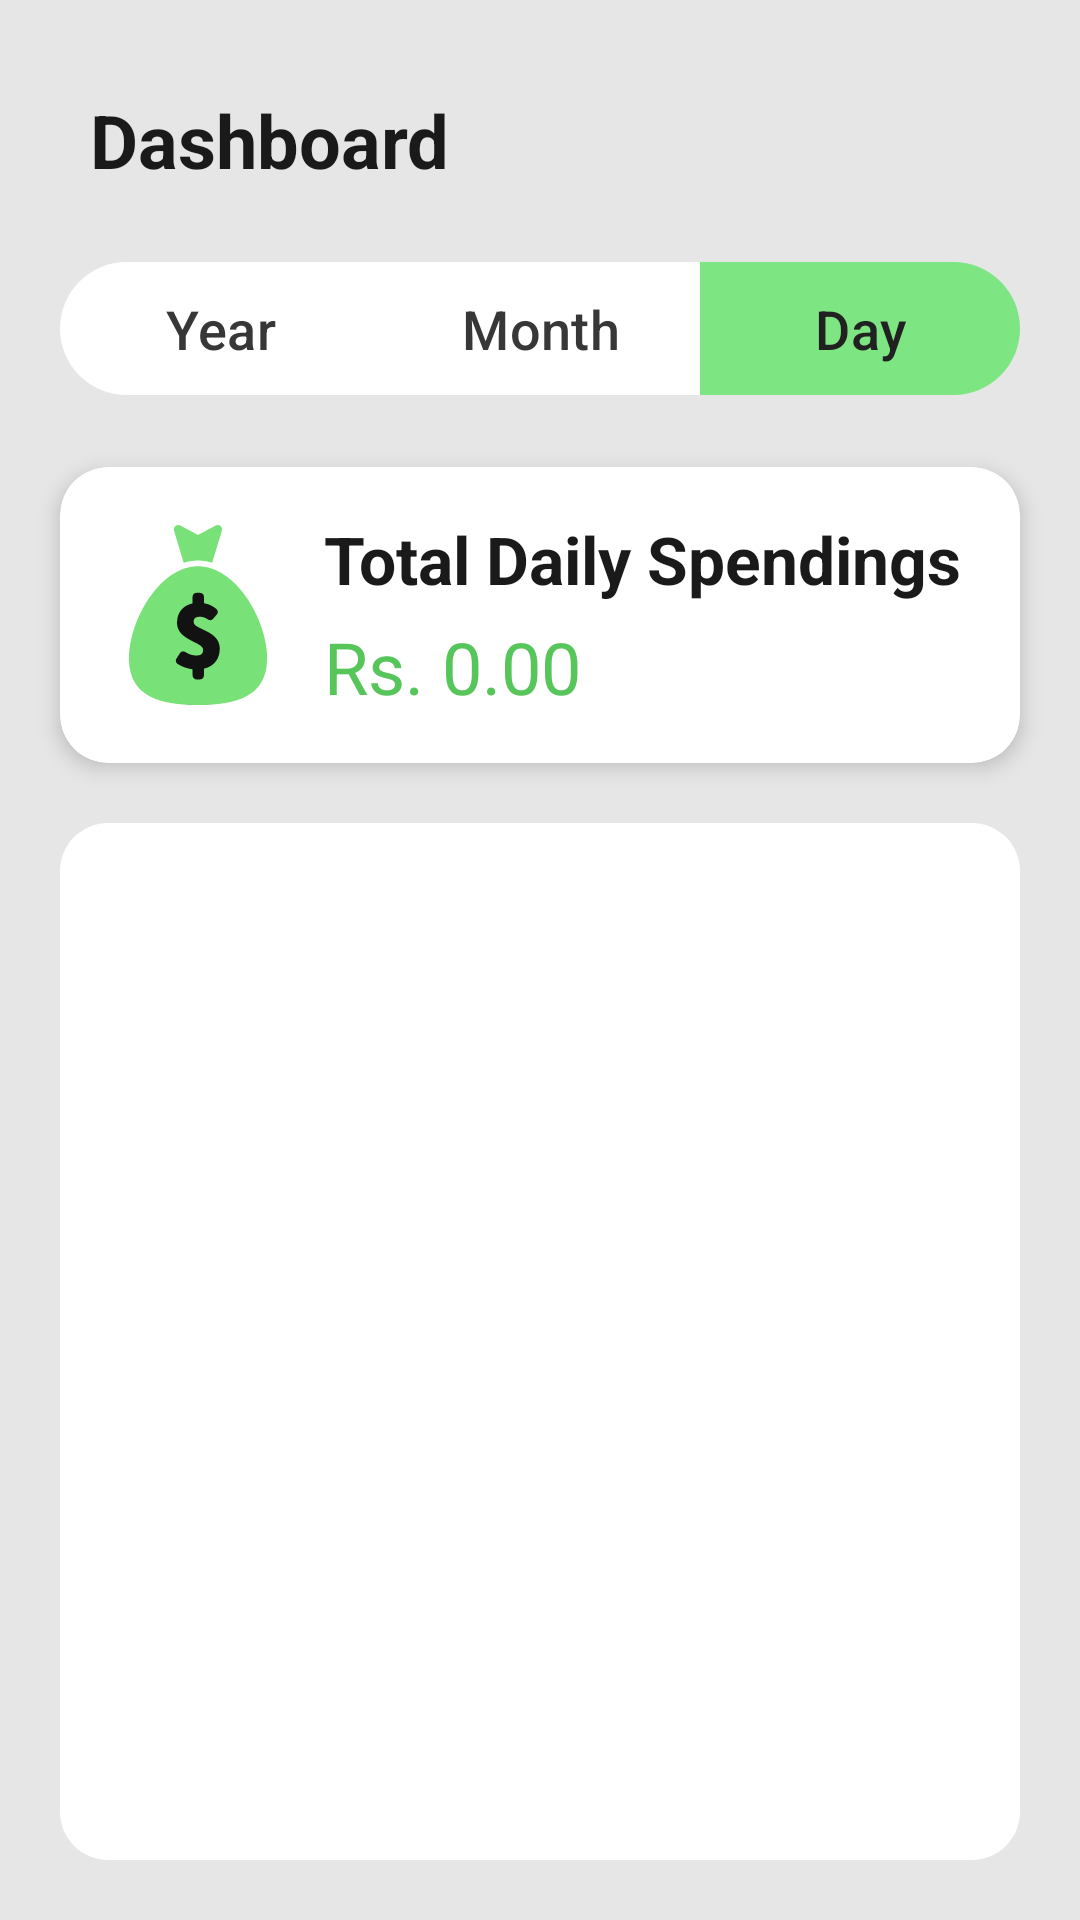

Named icons in this screenshot (1080 × 1920) and their centers, (x,y):
money bag: (198,615)
